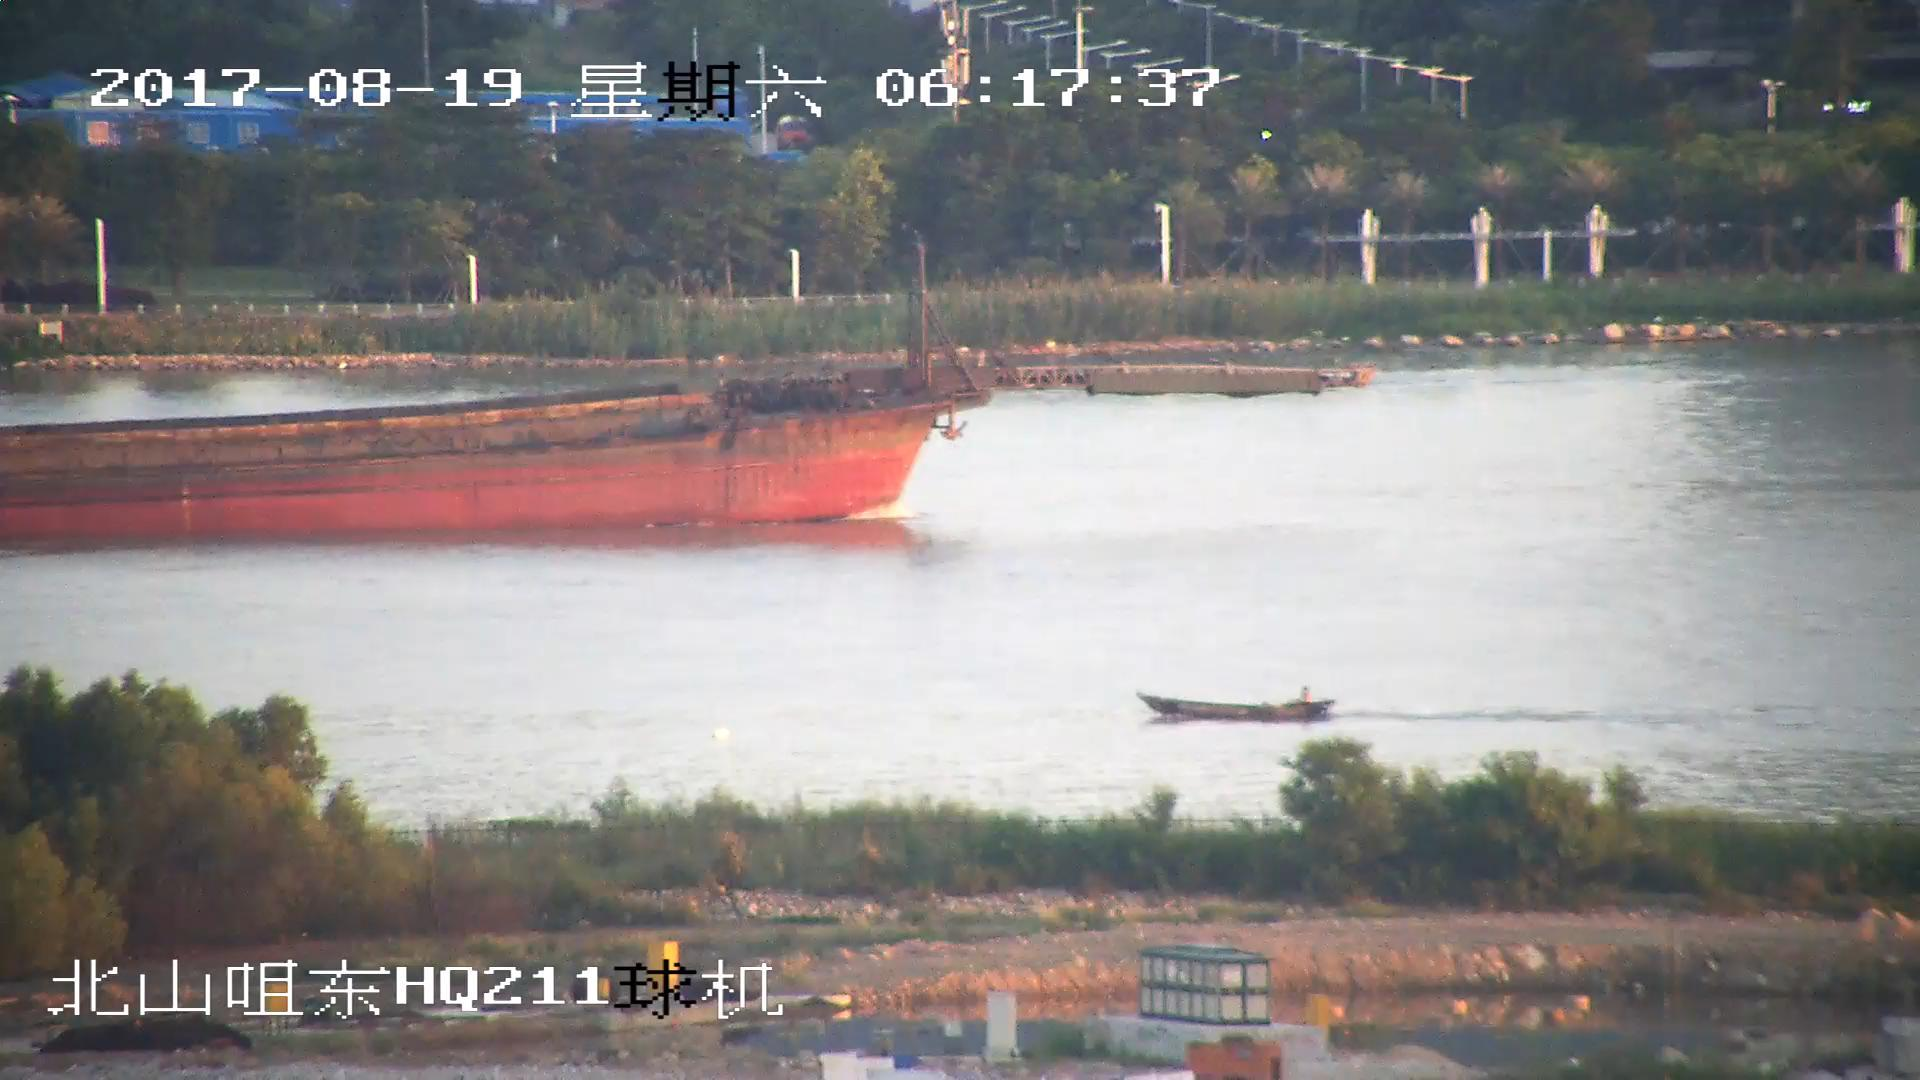Ship: (3, 248, 1379, 537), (1141, 688, 1342, 725)
